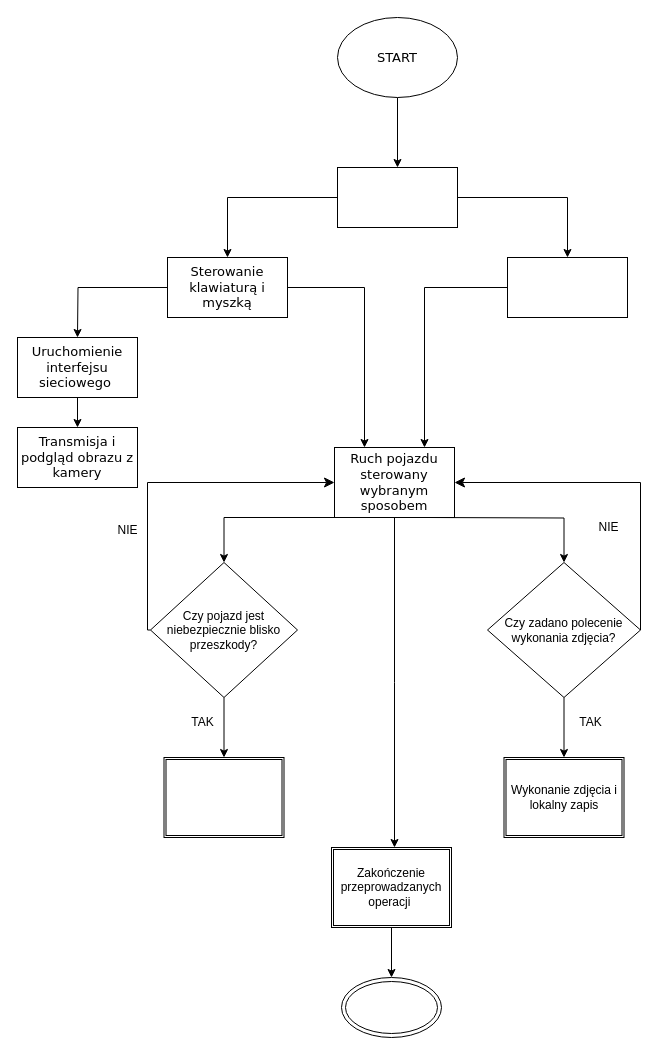
The diagram is 668 pixels wide and 1055 high, and some of its shapes have lost their labels. Here are the shapes that lost their labels. From the top down, the centre of each, then its label:
At (397,197): "Wybór sposobu sterowania".
At (567,287): "Sterowanie kontrolerem".
At (223,797): "Awaryjne zatrzymanie pojazdu".
At (391,1007): "STOP".
